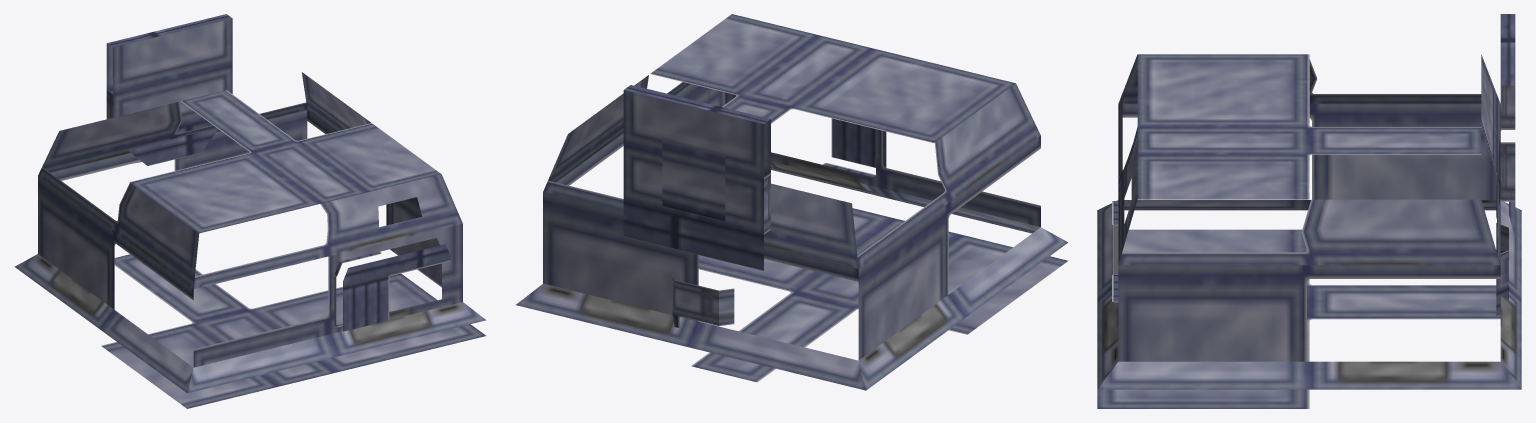
The model's file is MachineElectricBase.obj.
3 views of the same model, side by side, from view 1: azimuth 30°, elevation 25°; view 2: azimuth 150°, elevation 25°; view 3: azimuth 270°, elevation 25° (orthographic). The views are drawn at different scales.
Visible parts, largest first — view 1: Compressor_Crusher; view 2: Compressor_Crusher; view 3: Compressor_Crusher.
Boxes of the visible parts, <box> form: Compressor_Crusher: <box>14,14,485,408</box>; Compressor_Crusher: <box>516,14,1068,390</box>; Compressor_Crusher: <box>1097,14,1521,408</box>.
Size of the model in its own units: 2 by 1.4 by 2.
